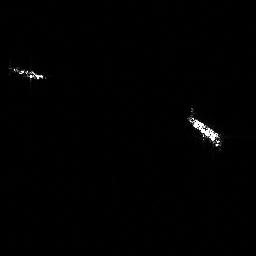ship: (189, 115, 221, 147), (13, 67, 44, 80)
